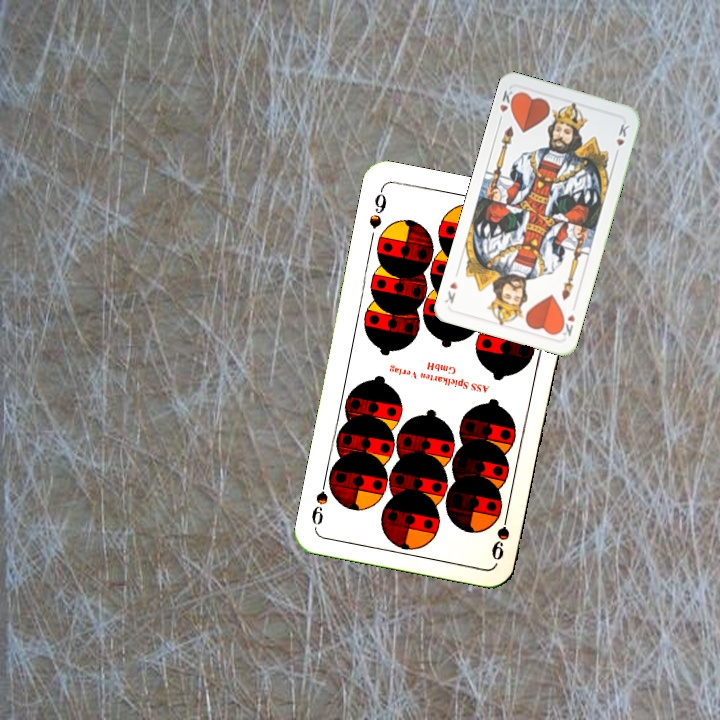HK: (495, 85, 519, 125), (555, 310, 578, 341)
S9: (487, 504, 512, 563), (365, 184, 389, 231)
